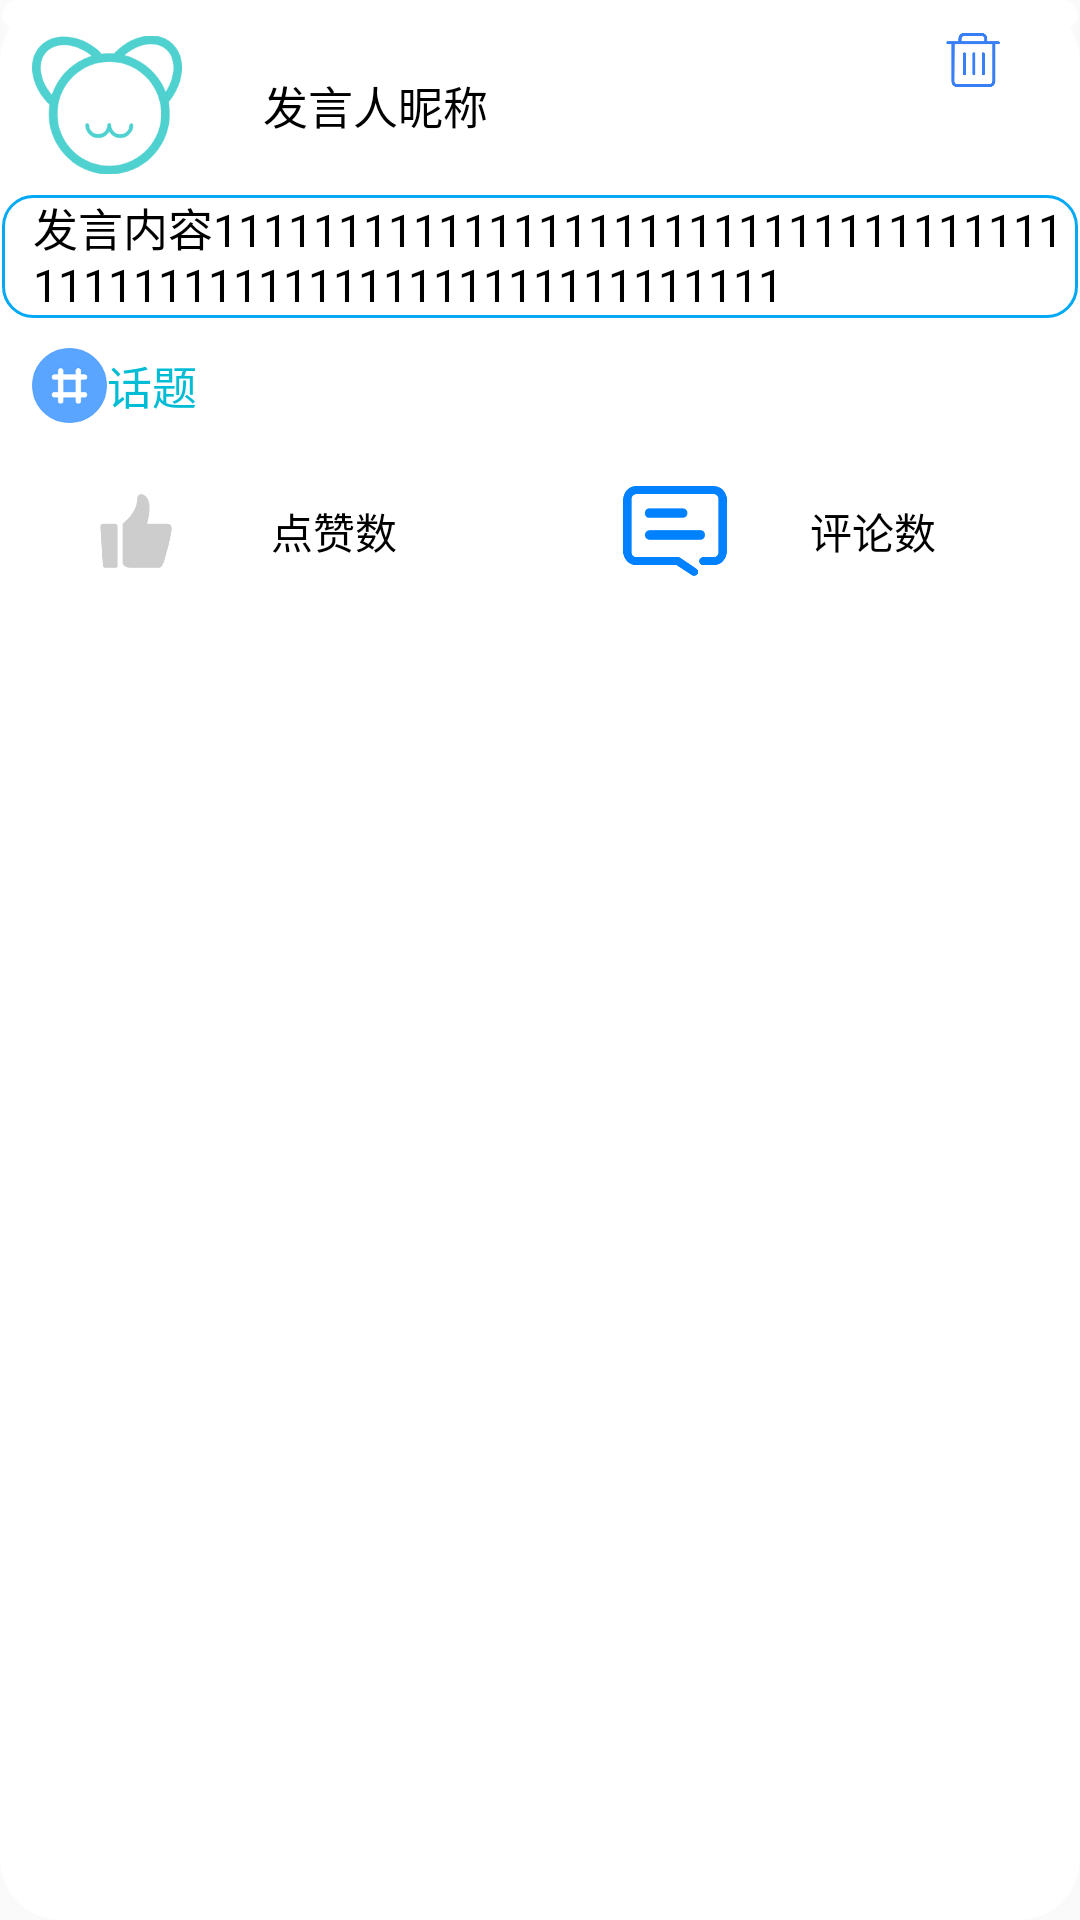

Screen size 1080 × 1920. Icon name, then its center in pixels as [x,y]:
dianzanno: [136,531]
maitlajix: [973,60]
pinglun: [675,531]
